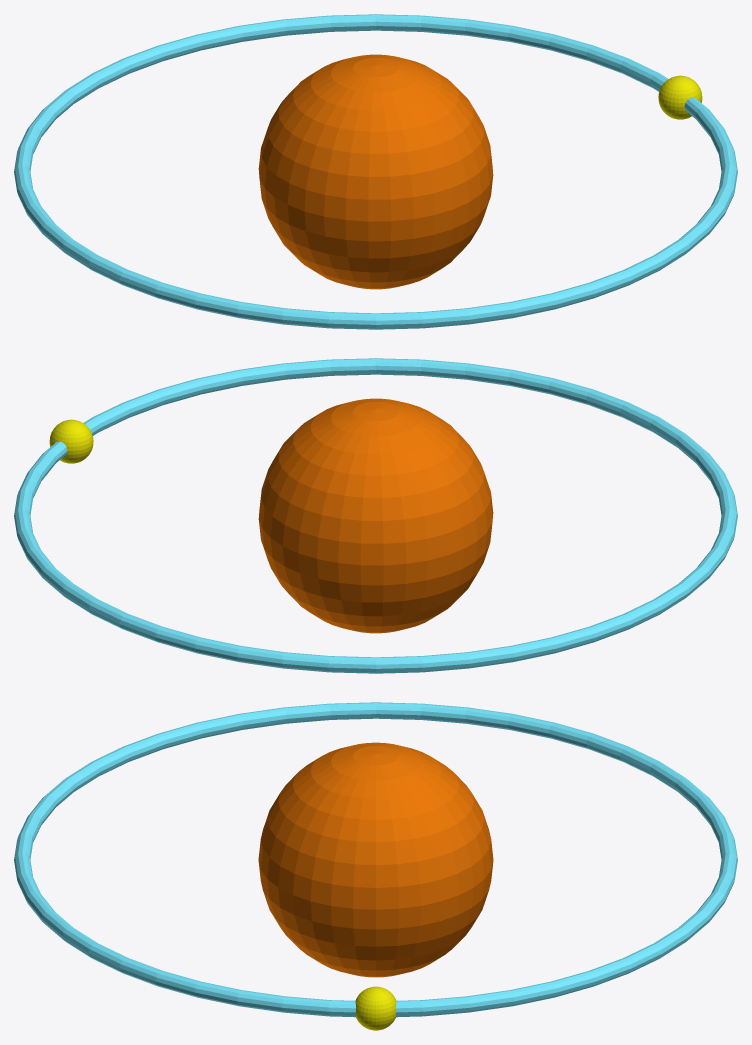
Rendered from hydrogen_dpsd19080.gltf.
The picture shows the model from 3 angles, top to bottom: view 1: azimuth 30°, elevation 25°; view 2: azimuth 150°, elevation 25°; view 3: azimuth 270°, elevation 25°; orthographic projection.
Visible parts, largest first — view 1: Sphere; view 2: Sphere; view 3: Sphere.
Boxes of the visible parts, x1=… form: Sphere: x1=14, y1=14, x2=737, y2=329; Sphere: x1=14, y1=358, x2=737, y2=673; Sphere: x1=14, y1=702, x2=737, y2=1030.
Bounding box in the file's own units: 2.06 × 0.6579 × 2.03.
